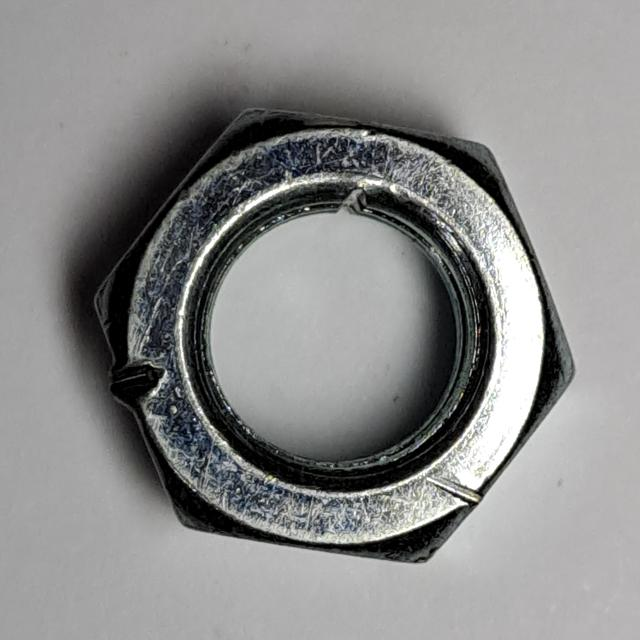Scratches: (83, 94, 587, 587)
